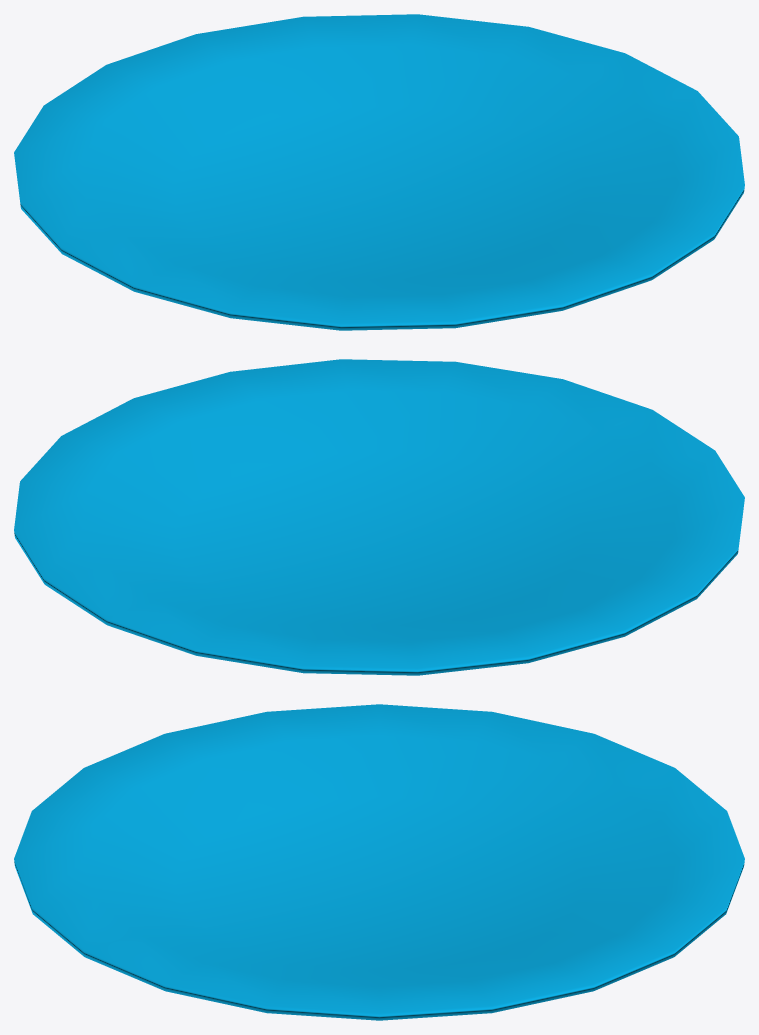
Rendered from Plate_01_Lod0.fbx.
3 renders of one model, top to bottom at view 1: azimuth 30°, elevation 25°; view 2: azimuth 150°, elevation 25°; view 3: azimuth 270°, elevation 25°, orthographic.
Visible parts, largest first — view 1: Plate_01_Lod0; view 2: Plate_01_Lod0; view 3: Plate_01_Lod0.
Part boxes in pixels (x1,y1,x2,y2): Plate_01_Lod0: (14, 14, 744, 330); Plate_01_Lod0: (14, 359, 744, 675); Plate_01_Lod0: (14, 704, 744, 1020).
Bounding box in the file's own units: 28.93 × 2.39 × 28.93.
